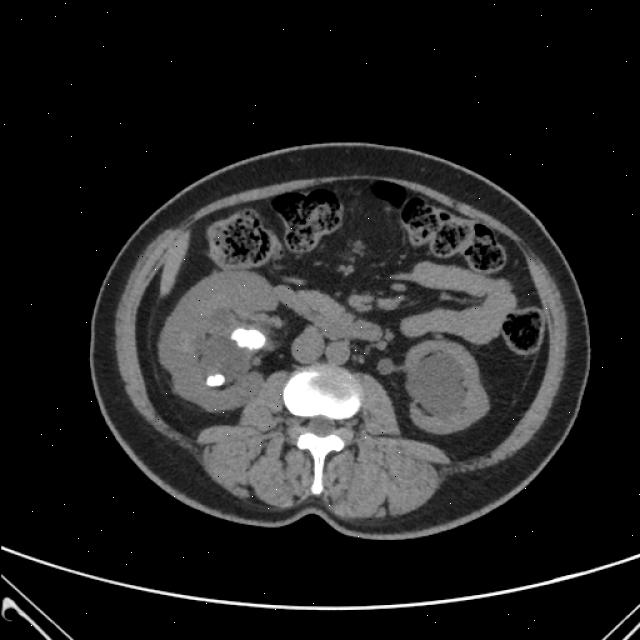kidneystone: (231, 328, 266, 349)
